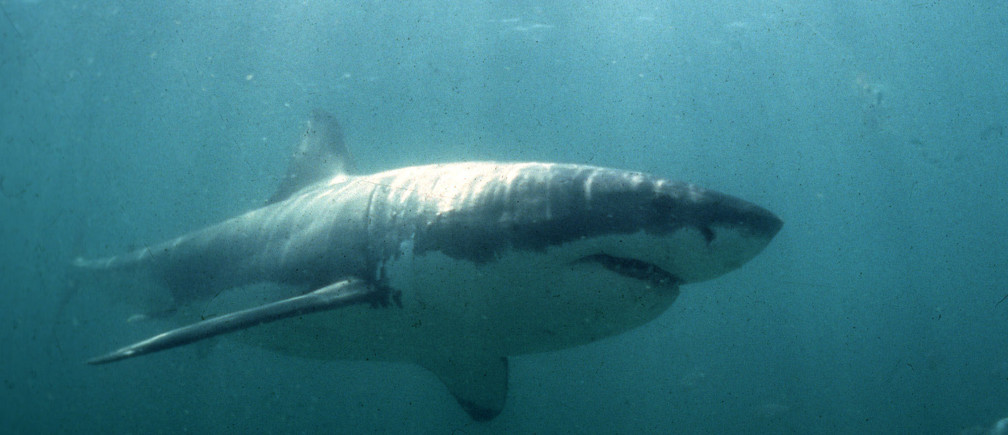shark: (72, 124, 809, 393)
